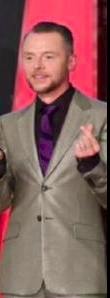oneheart: (70, 121, 110, 160)
